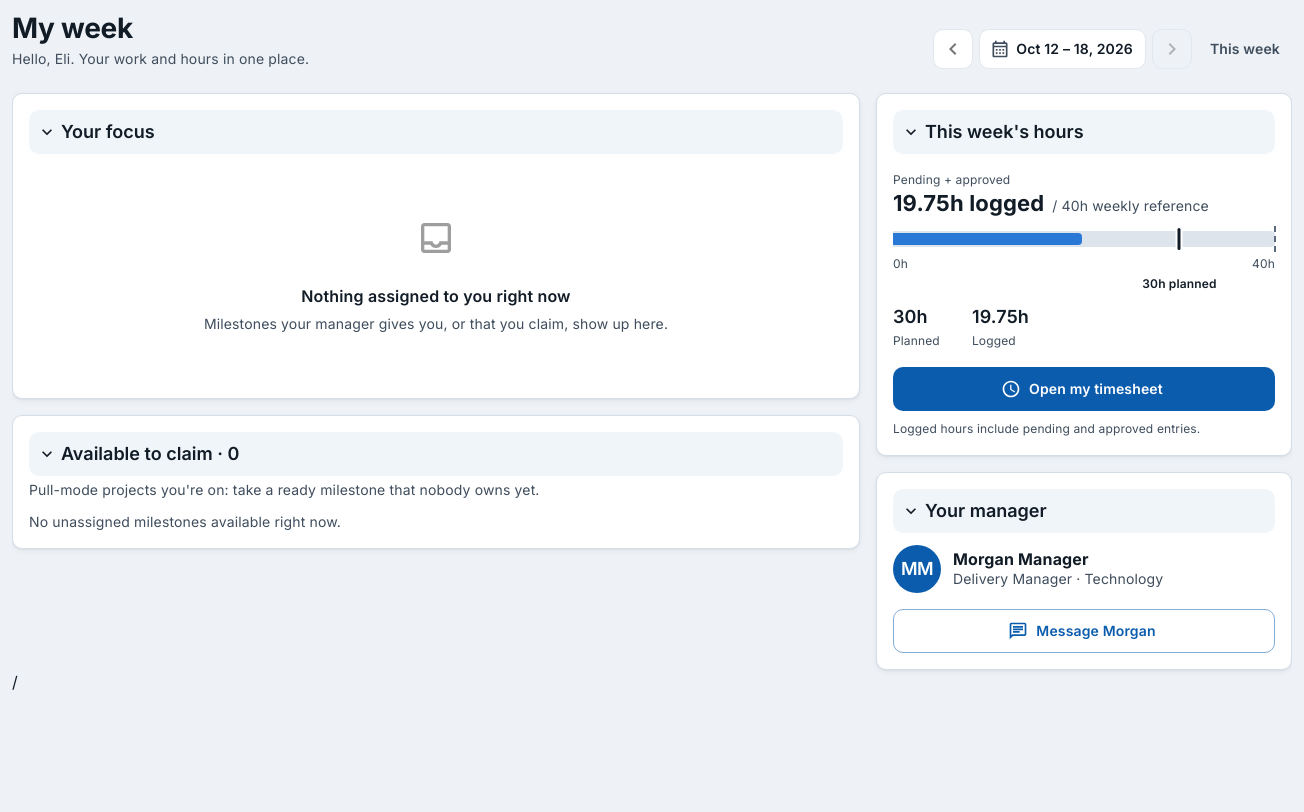
Test: header and week picker › Previous week sets ?week=, asks for that week alone, retitles the card and points the timesheet link at it
Click the button named "Previous week" at (953, 49), box x1=933 y1=29 x2=973 y2=69
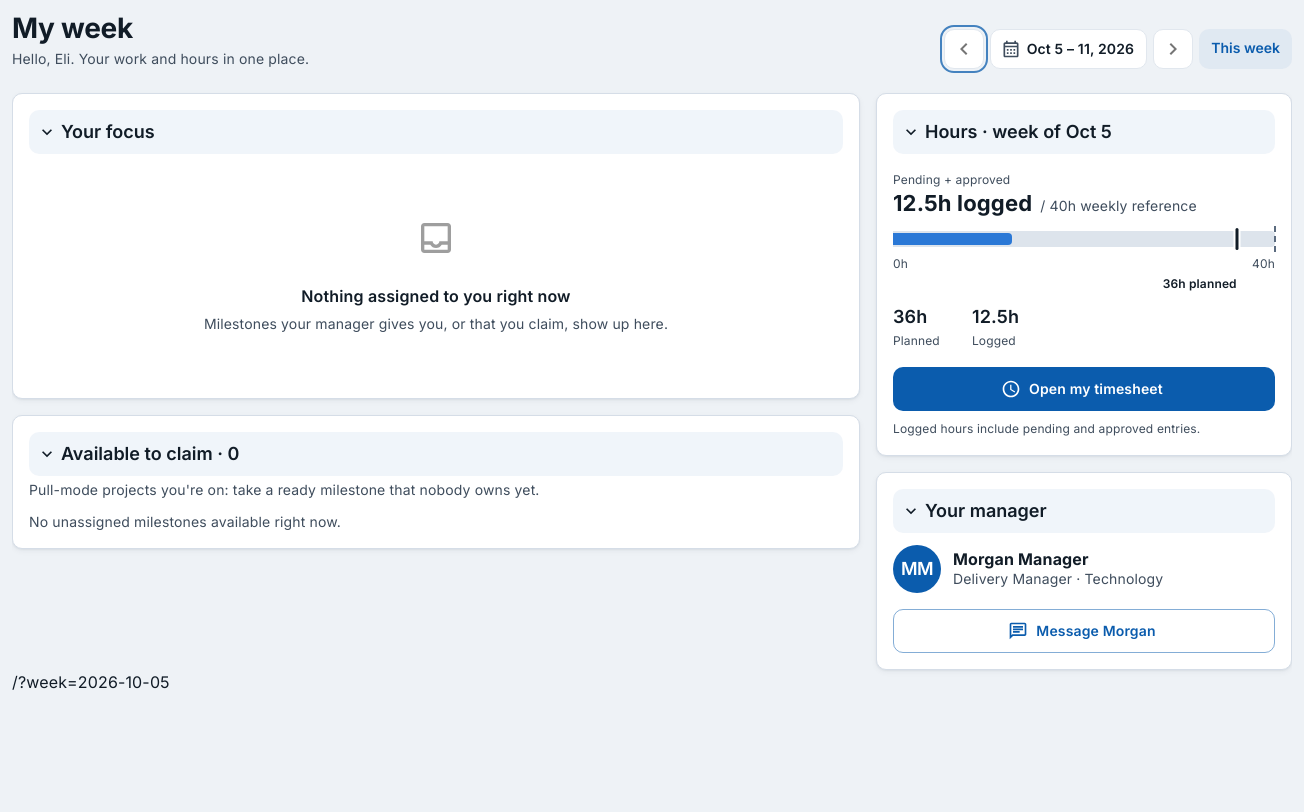
Check: the text with test id "location" reads "/?week=2026-10-05", box x1=12 y1=672 x2=170 y2=692
Check: the text "12.5h logged" is shown, box x1=893 y1=190 x2=1032 y2=216
Check: the text "Oct 5 – 11, 2026" is shown, box x1=1027 y1=39 x2=1134 y2=59
